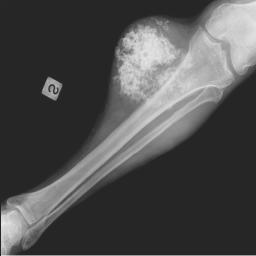cancer: (109, 19, 196, 111)
